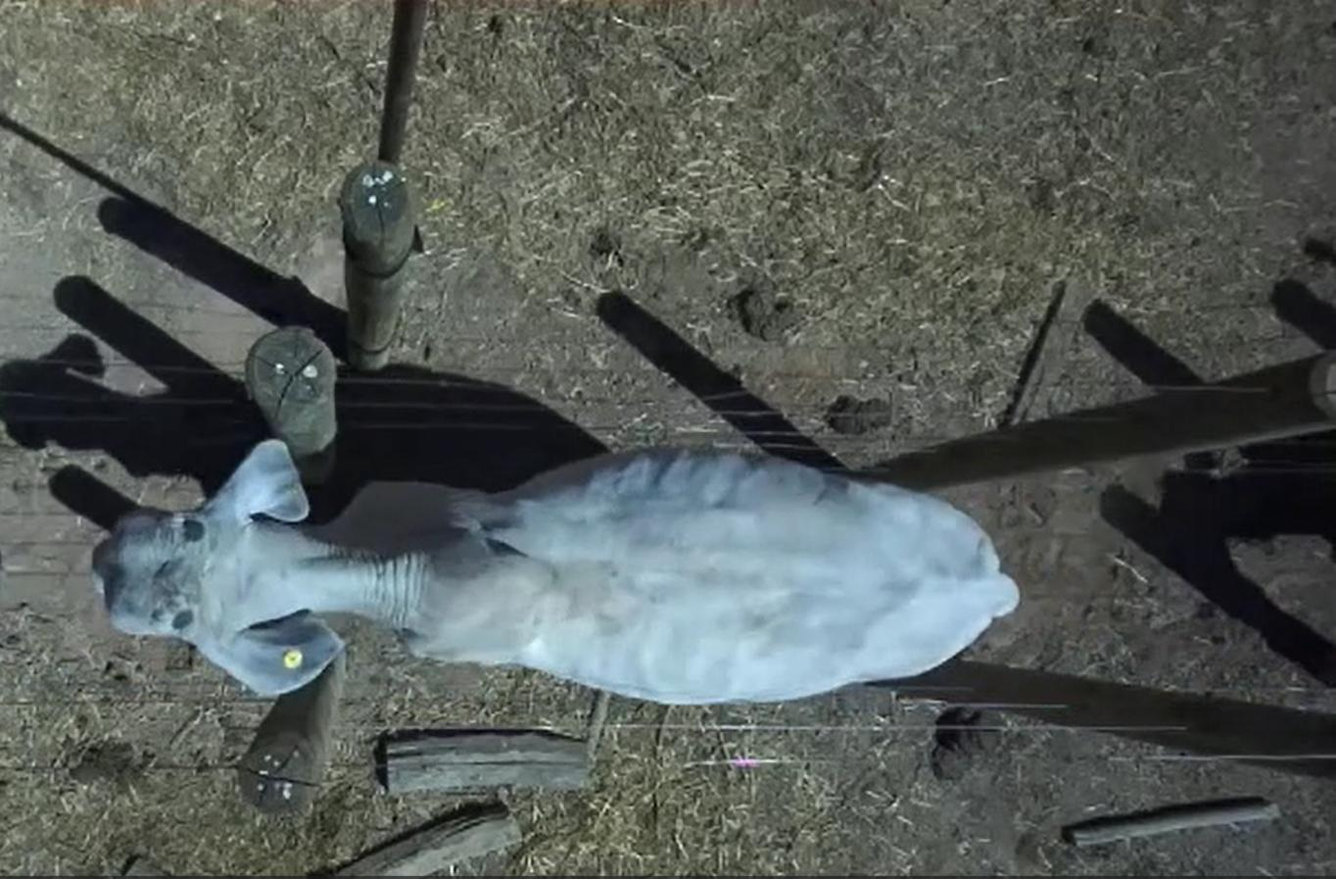cattle: (81, 416, 1031, 714)
